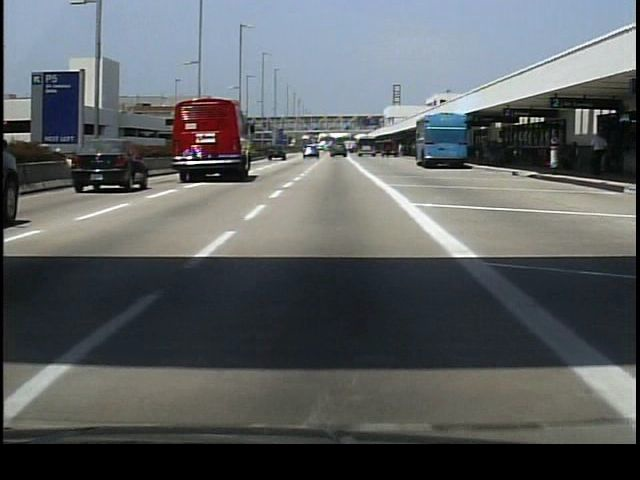person: (587, 131, 607, 177)
